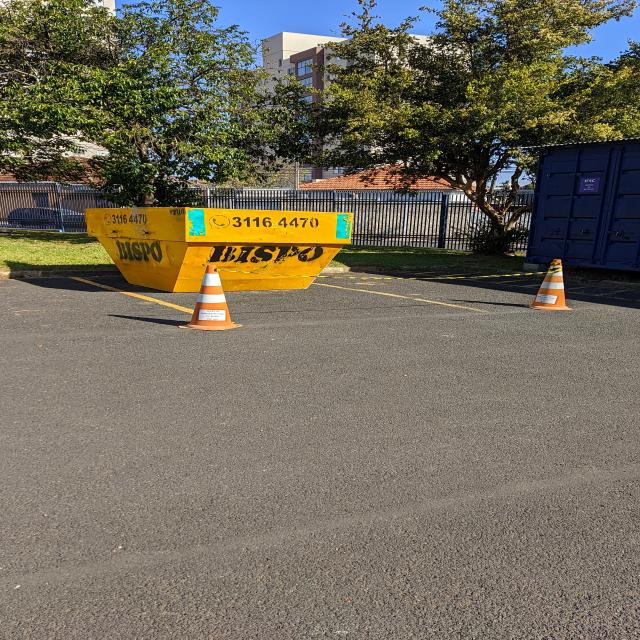cone: (174, 263, 246, 333), (521, 256, 575, 312)
